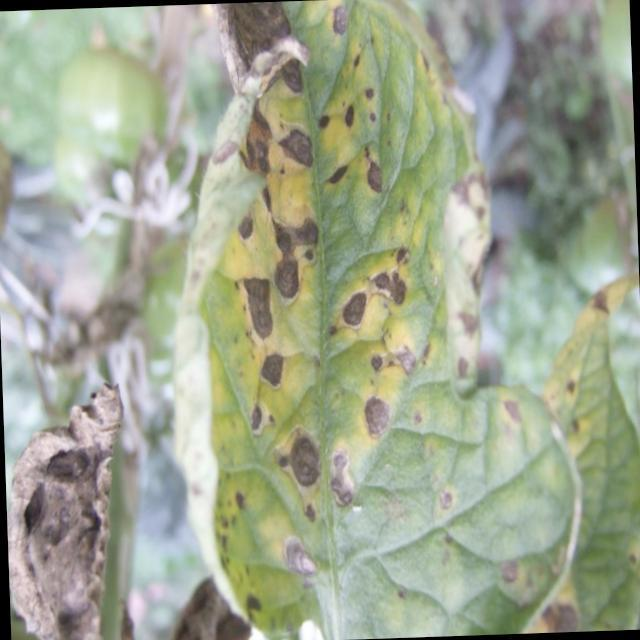Tomato Early blight leaf: (160, 0, 584, 640)
